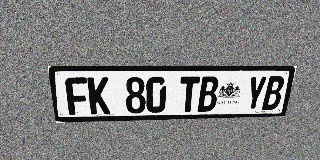0: (146, 77, 166, 113)
8: (125, 77, 146, 113)
B: (261, 76, 286, 110), (197, 76, 219, 112)
F: (65, 77, 90, 115)
K: (87, 77, 110, 114)
T: (178, 77, 200, 112)
Y: (244, 76, 267, 111)
